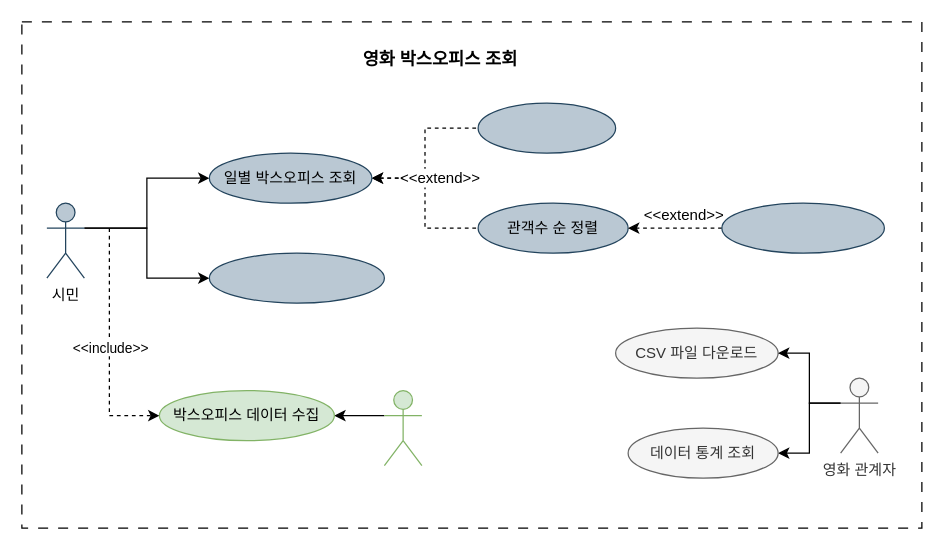
This 944x550 diagram has some shape labels left out. The box of each missing label's shape, as (x1, y1, x2, y2) in pixels:
관객수 기준 필터링: (721, 202, 884, 253)
날짜별 박스오피스 조회: (208, 252, 384, 303)
상세정보 조회: (477, 102, 616, 153)
영화진흥위원회 API: (383, 389, 422, 466)
